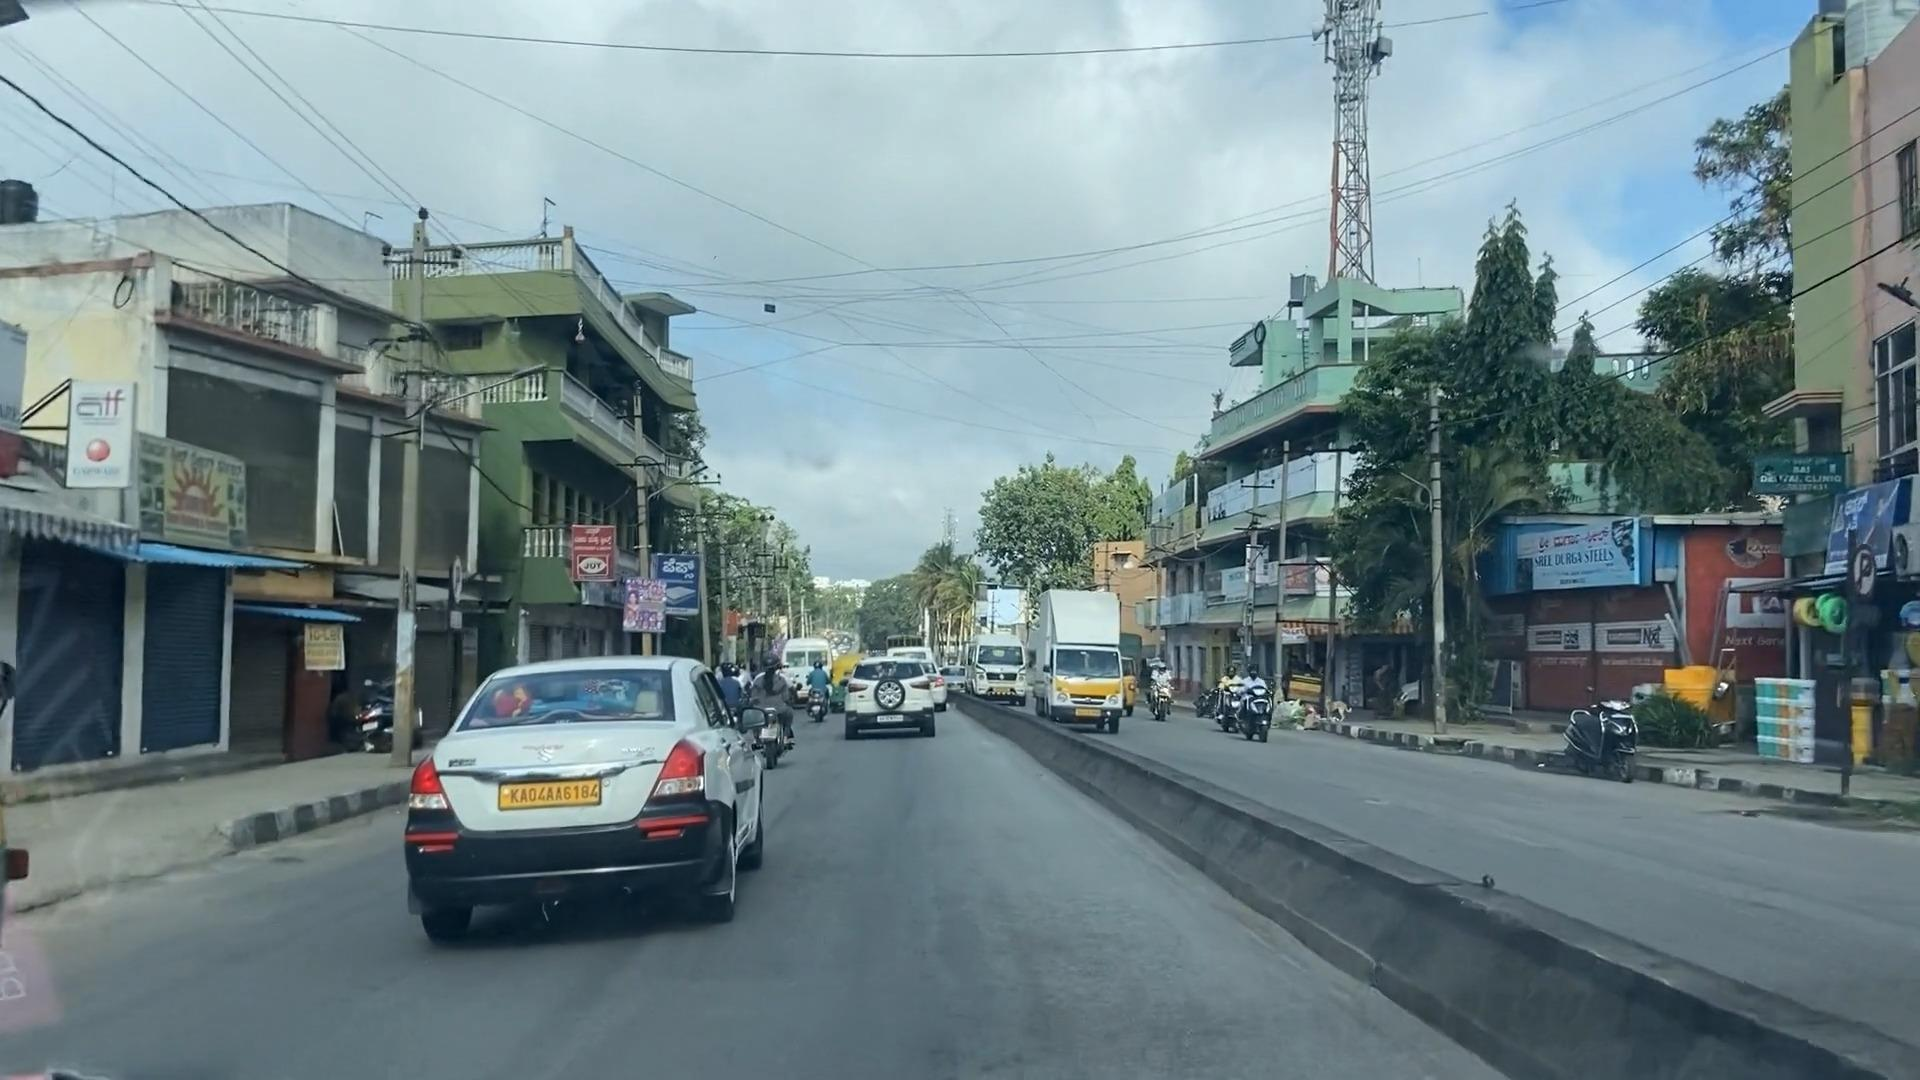LMV: (414, 654, 762, 932), (843, 661, 938, 741)
